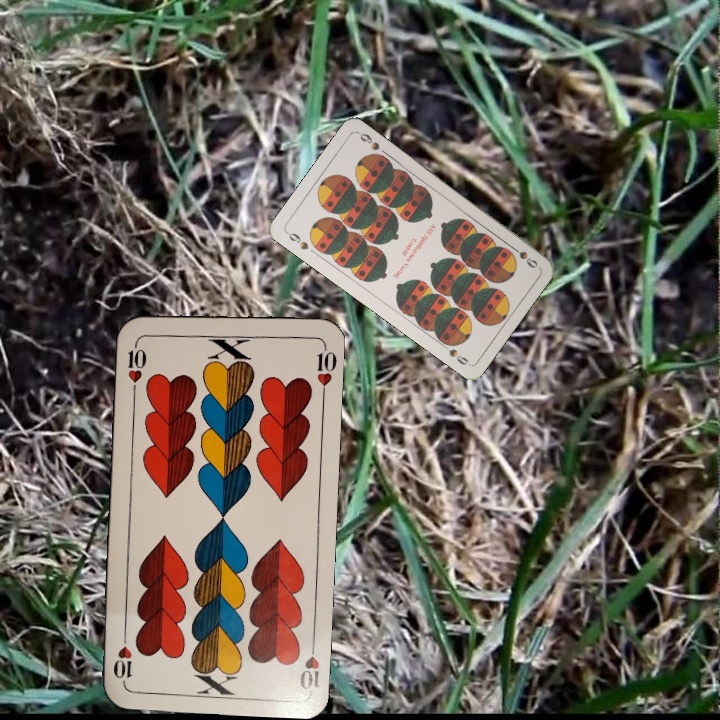H10: (295, 634, 322, 692), (123, 335, 149, 395)
S9: (506, 241, 540, 271), (282, 228, 311, 253)
